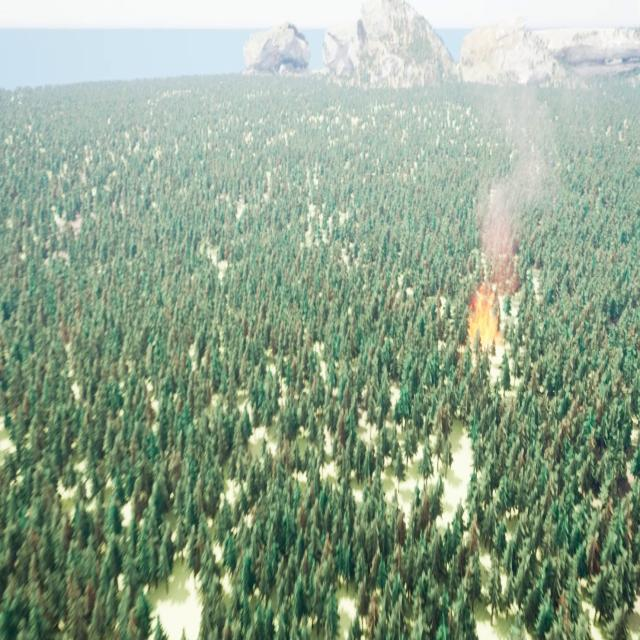fire: (469, 279, 504, 342)
smoke: (482, 72, 574, 278)
